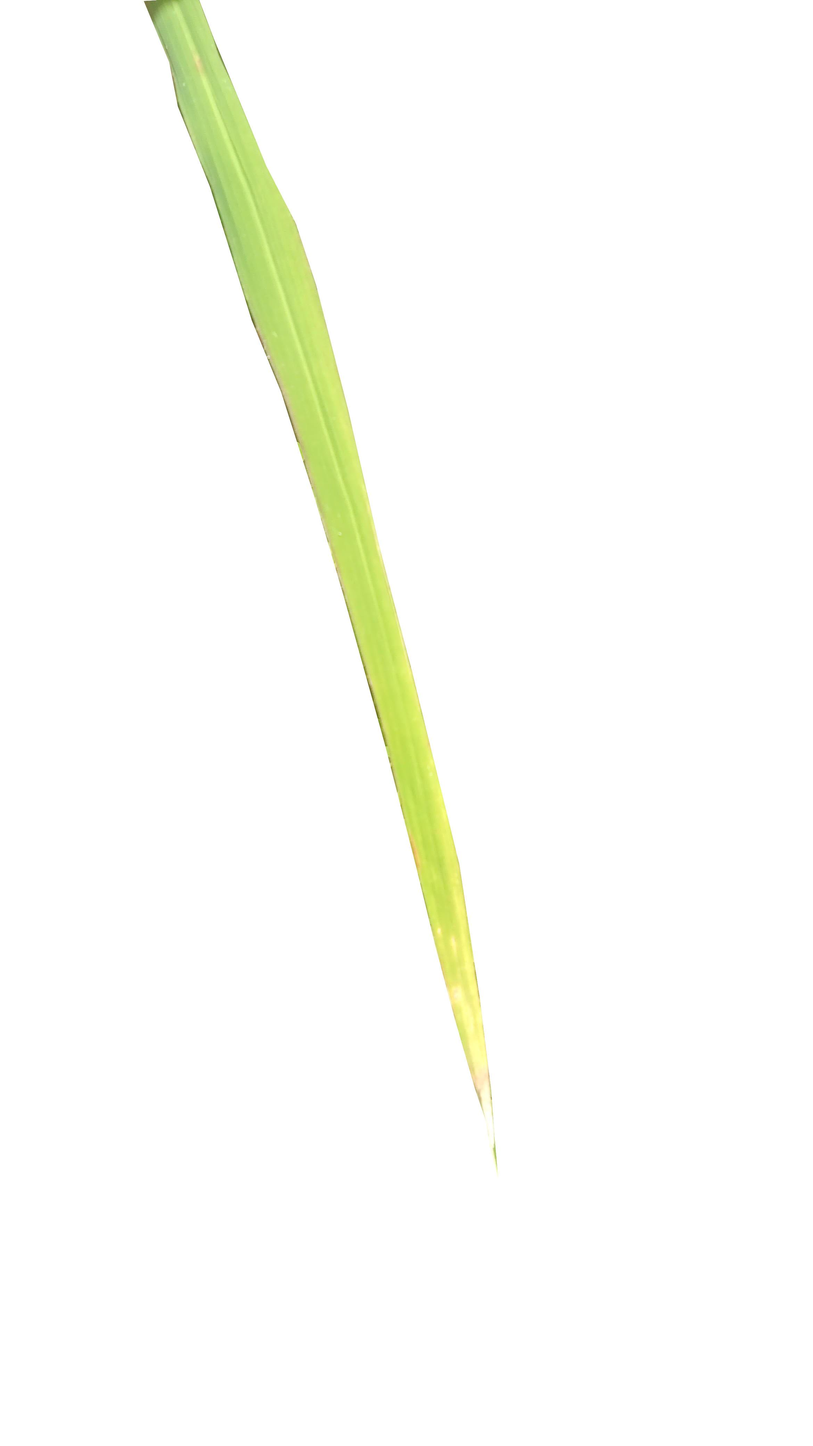Tungro: (141, 0, 502, 1176)
